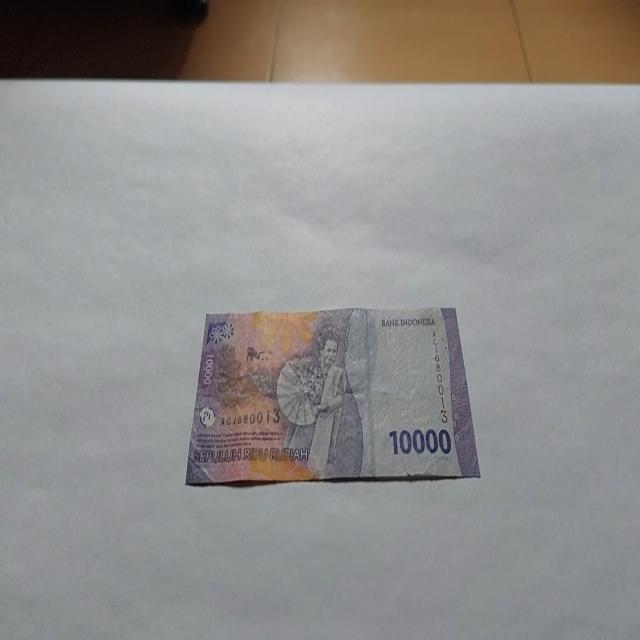sepuluh ribu rupiah: (184, 304, 481, 487)
